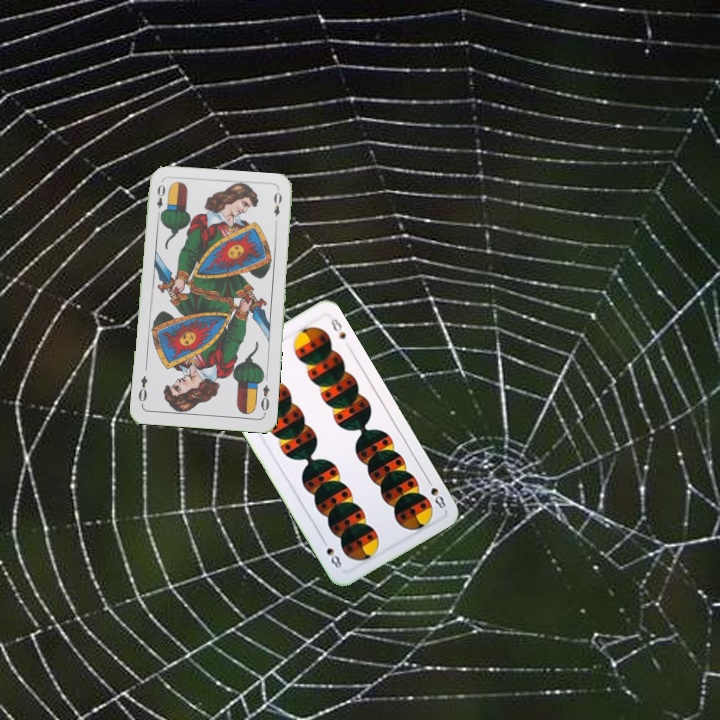EO: (153, 181, 168, 220), (257, 381, 272, 417)
S8: (422, 474, 449, 511)
